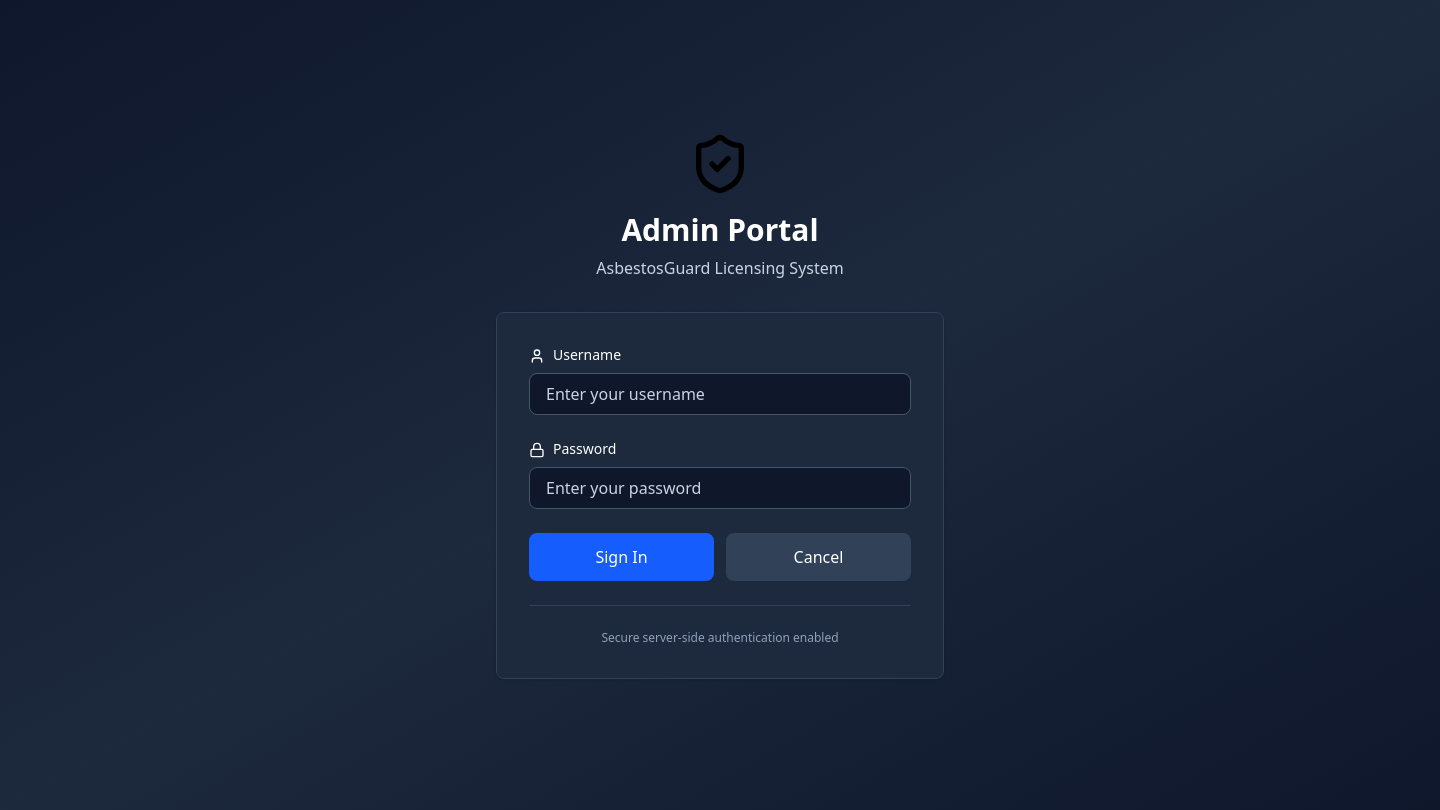
Test case: AdminLogin Component › form validation › should show error when username is empty
The image size is (1440, 810).
Type "password123" into the password field labelled "Password" at (720, 488), box [529, 466, 911, 508]
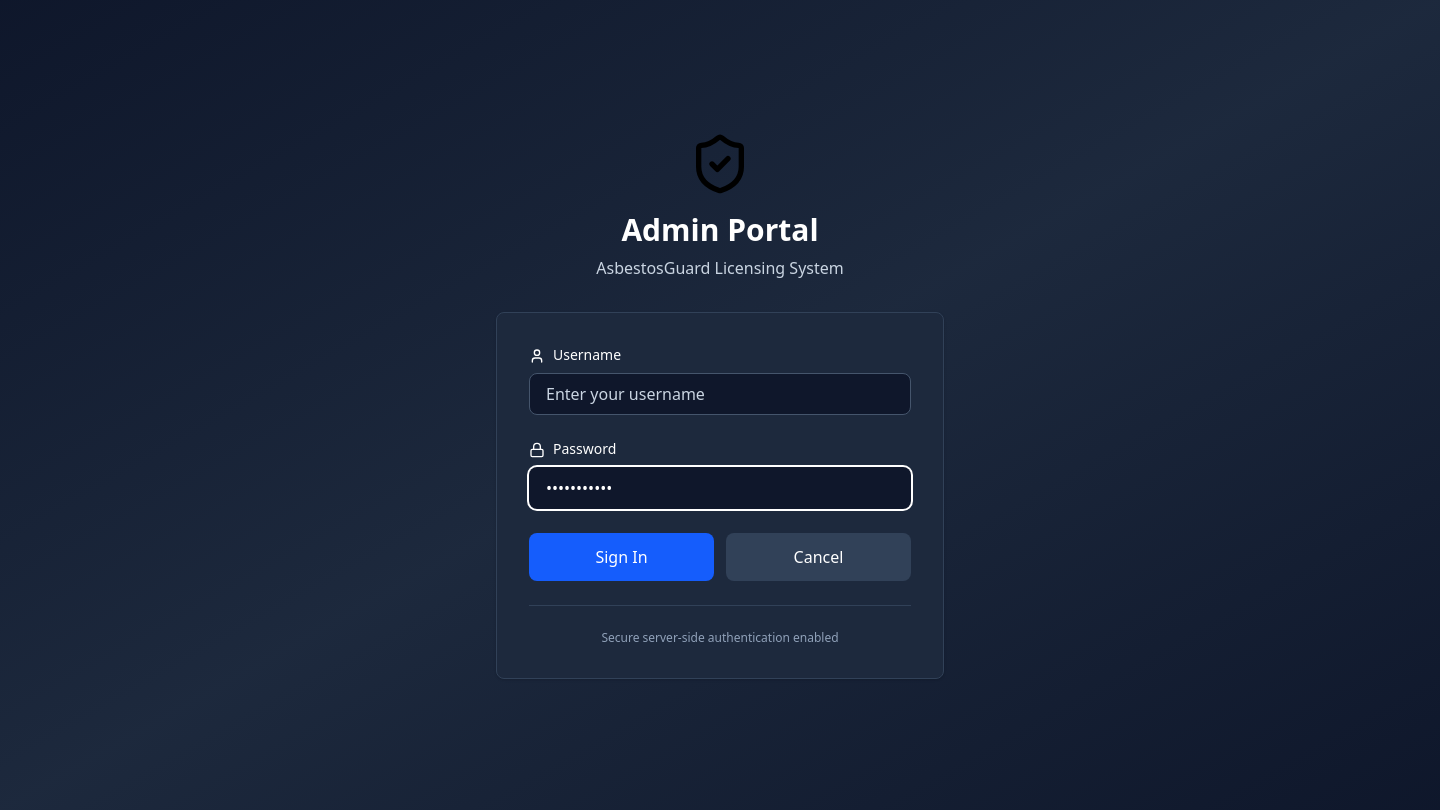
Click the button "Sign In" at (622, 556), box [529, 532, 714, 580]
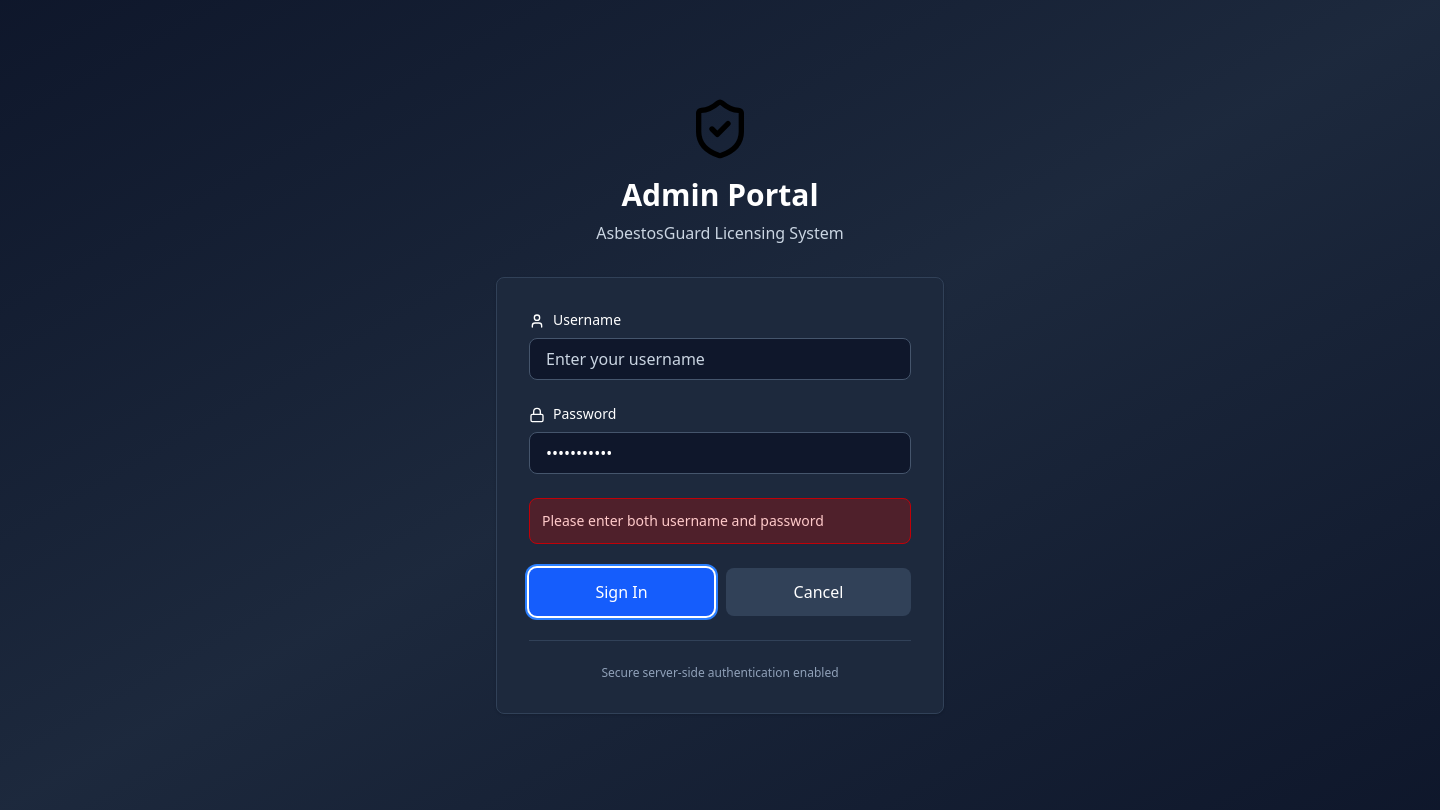
Expected: the text "Please enter both username and password" is shown, [529, 498, 911, 544]
